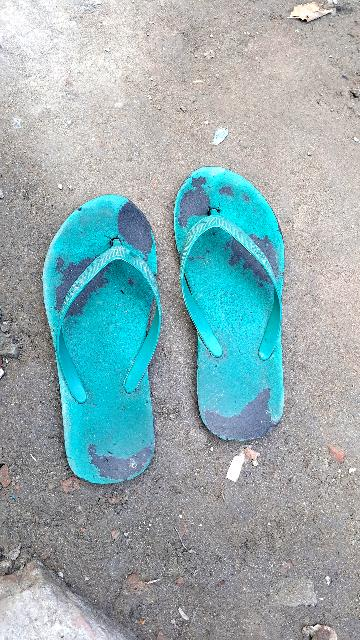sandal: (37, 178, 161, 491), (184, 158, 290, 443)
